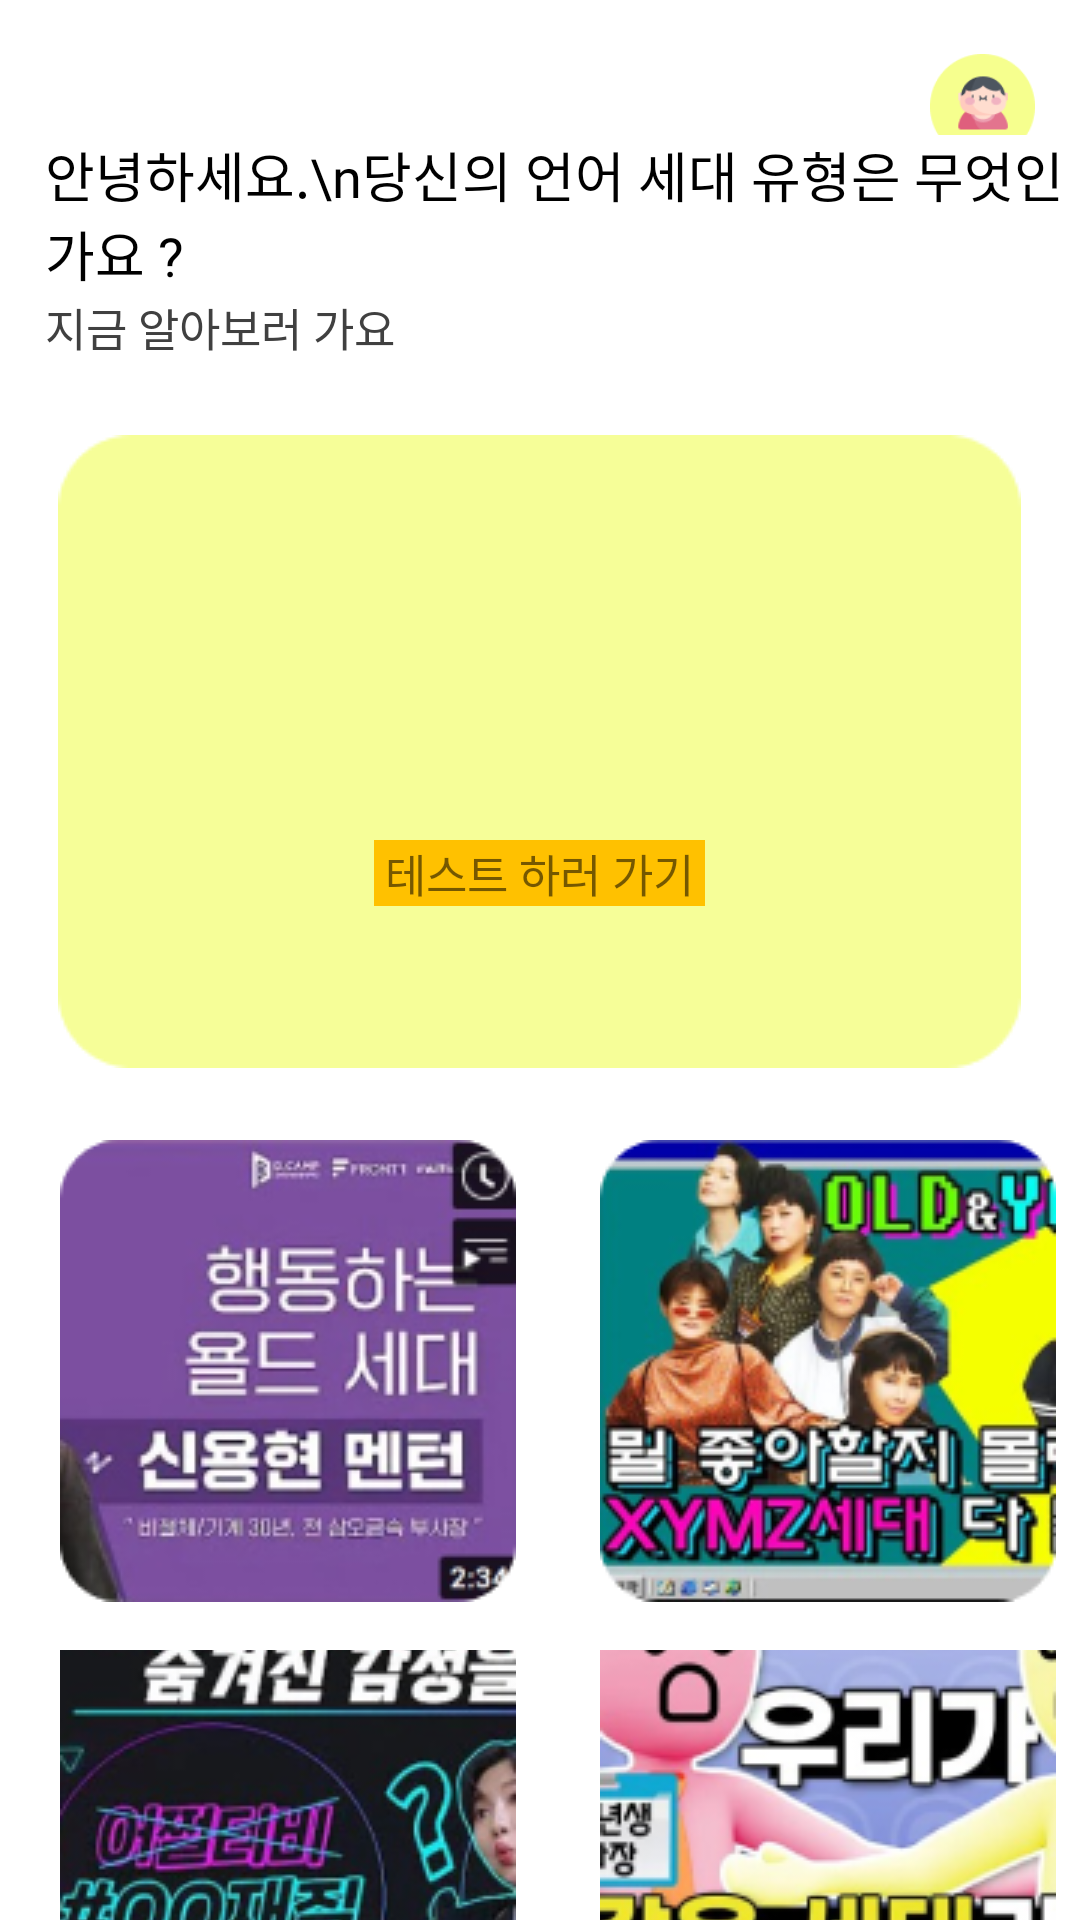

Icons on this 1080x1920 Android screen, each with the point to tap as (x=x, y=y):
person: (x=989, y=121)
